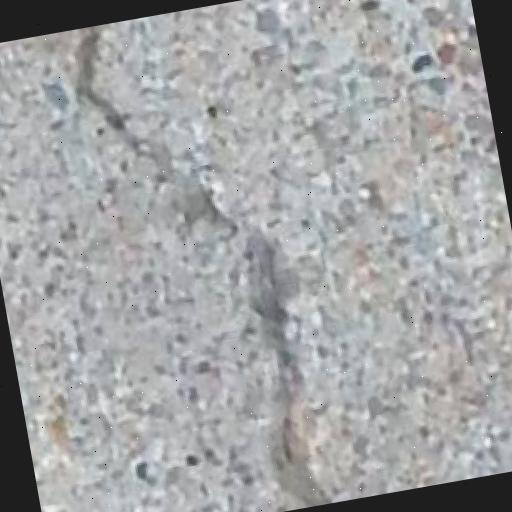spalling: (49, 23, 363, 504)
